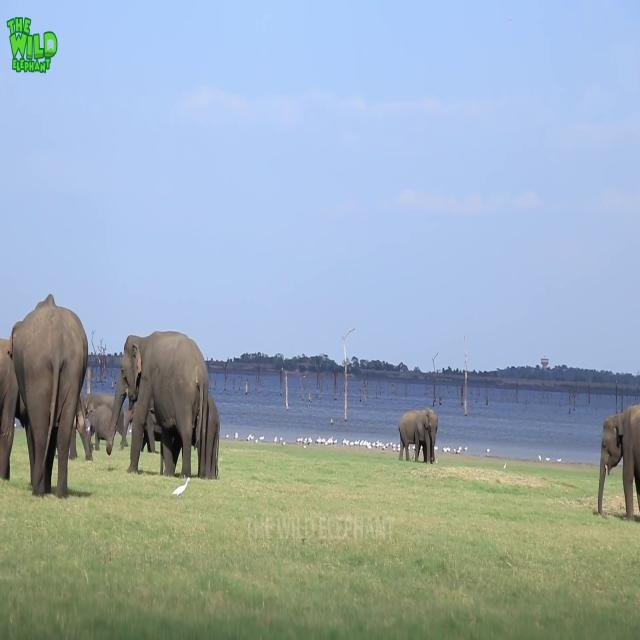Elephant: (8, 293, 89, 497), (105, 330, 209, 478), (597, 403, 640, 521), (398, 407, 438, 464)
